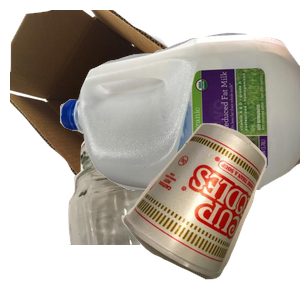cardboard: (10, 10, 218, 190)
glass: (61, 120, 287, 300)
plastic: (60, 30, 300, 210)
trash: (119, 121, 300, 300)
